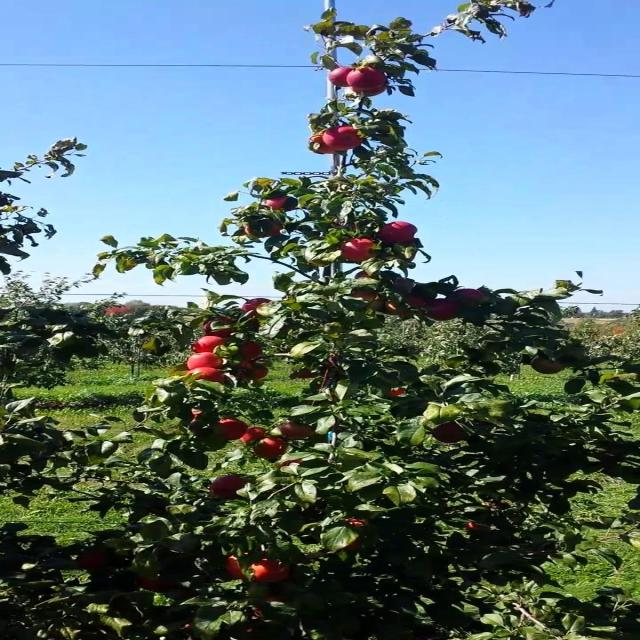apple: (326, 128, 364, 152), (255, 560, 292, 584), (340, 240, 377, 264), (212, 476, 249, 499), (348, 68, 389, 88), (426, 300, 462, 322), (383, 224, 420, 245), (212, 420, 249, 440), (433, 424, 469, 444), (255, 440, 290, 460), (532, 356, 565, 376), (262, 196, 299, 213), (248, 224, 284, 240), (234, 360, 270, 376), (77, 552, 107, 571), (141, 576, 174, 593), (191, 352, 226, 368), (191, 368, 226, 384), (227, 556, 249, 581), (284, 424, 316, 440), (198, 336, 228, 353), (312, 136, 336, 156), (205, 320, 235, 336), (355, 84, 391, 97), (234, 368, 270, 381), (454, 288, 485, 303), (241, 428, 270, 444), (333, 68, 356, 88), (241, 300, 270, 315), (248, 300, 270, 319), (355, 288, 379, 303), (241, 344, 263, 360), (404, 296, 430, 309), (390, 304, 414, 318), (340, 540, 363, 552), (355, 272, 377, 281), (348, 520, 370, 528), (191, 412, 206, 423), (284, 460, 304, 468), (298, 372, 315, 380), (390, 388, 405, 397), (468, 524, 482, 531)
